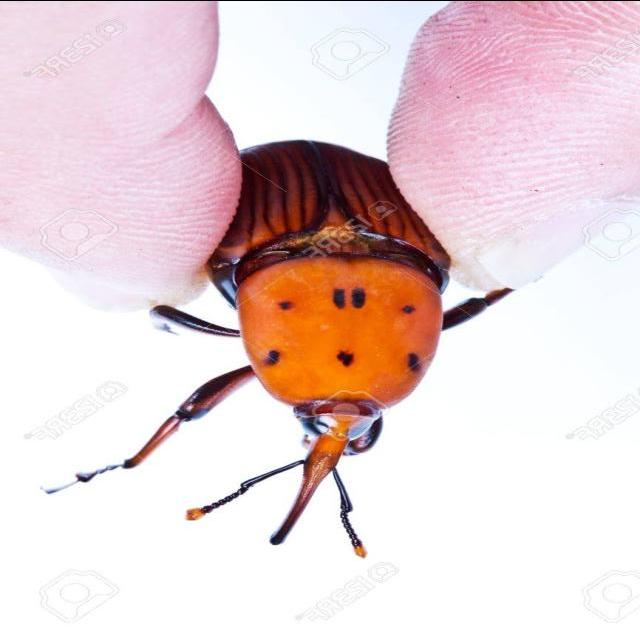Red-palm-weevil: (183, 135, 441, 562)
